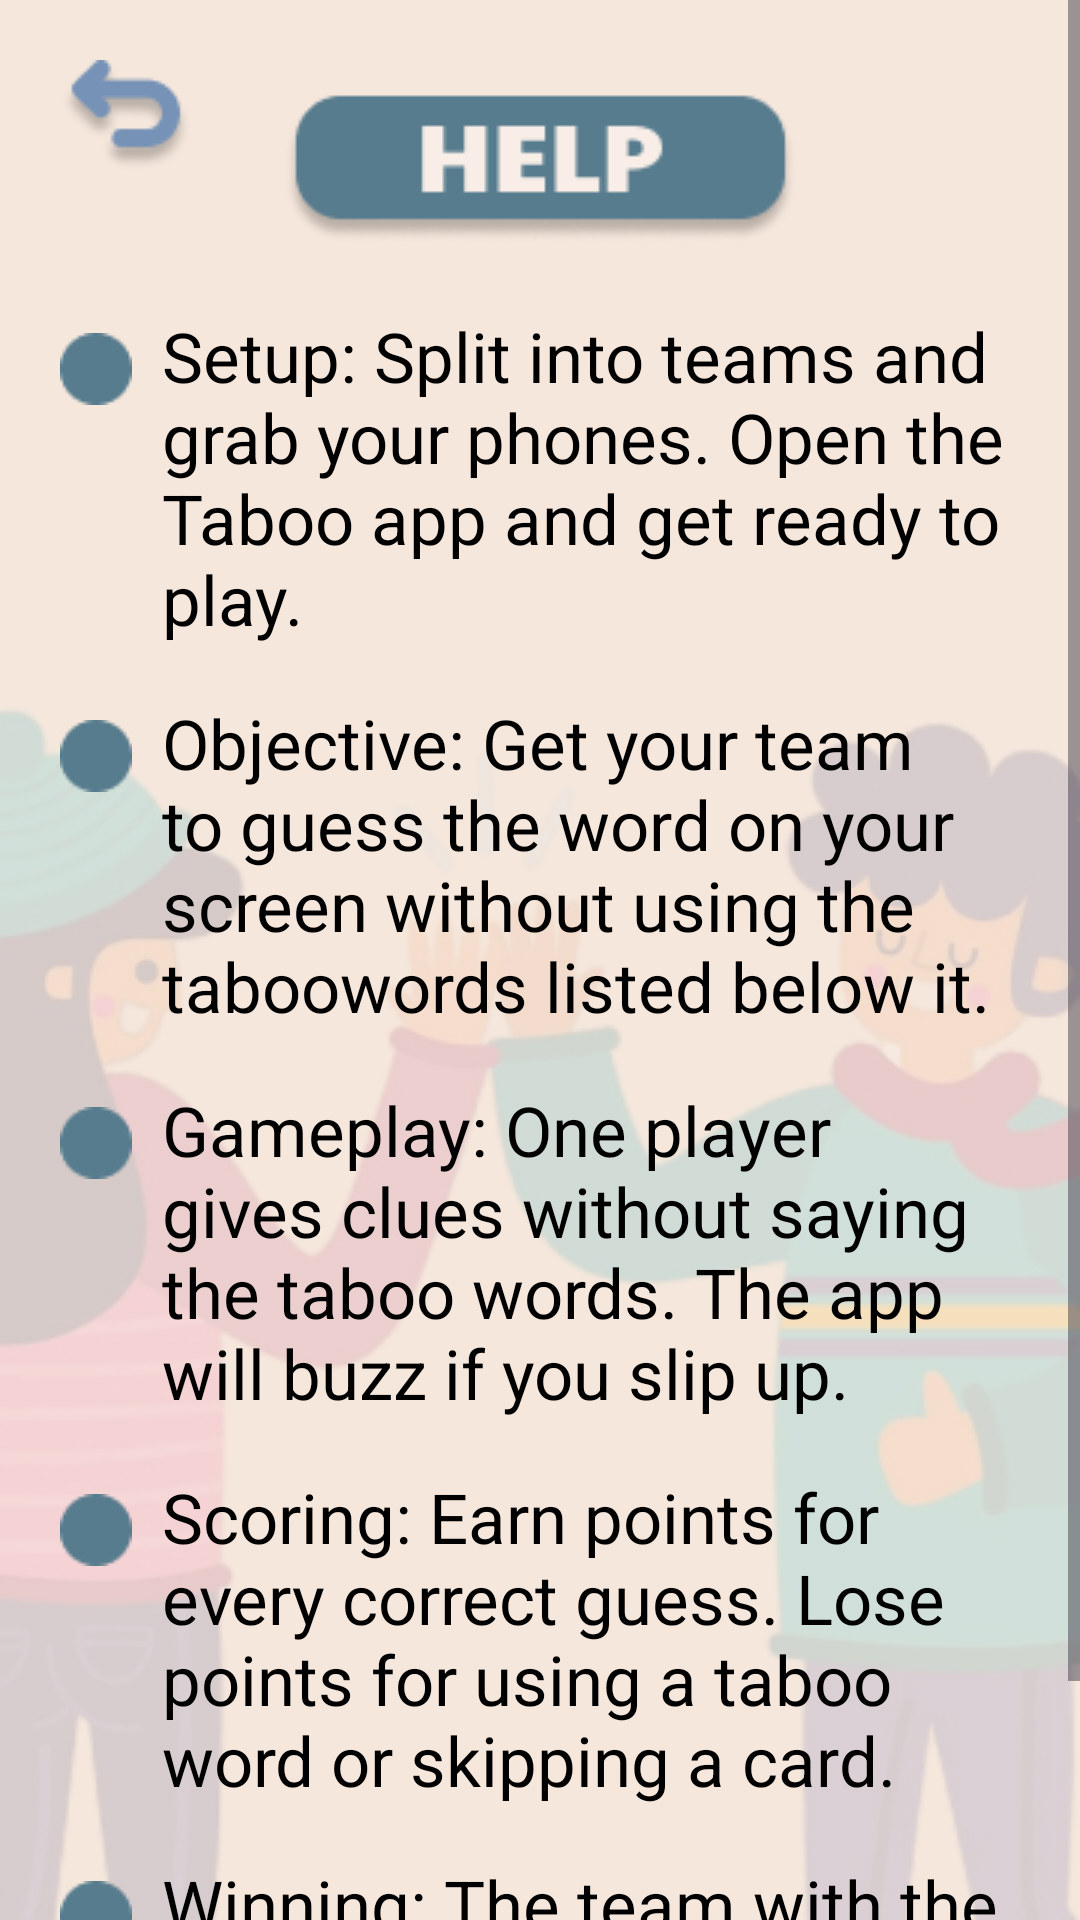

Icons on this 1080w x 1920h Android screen, each with its box as bbox(x1, y1, x2, y2):
back: bbox(71, 60, 181, 160)
